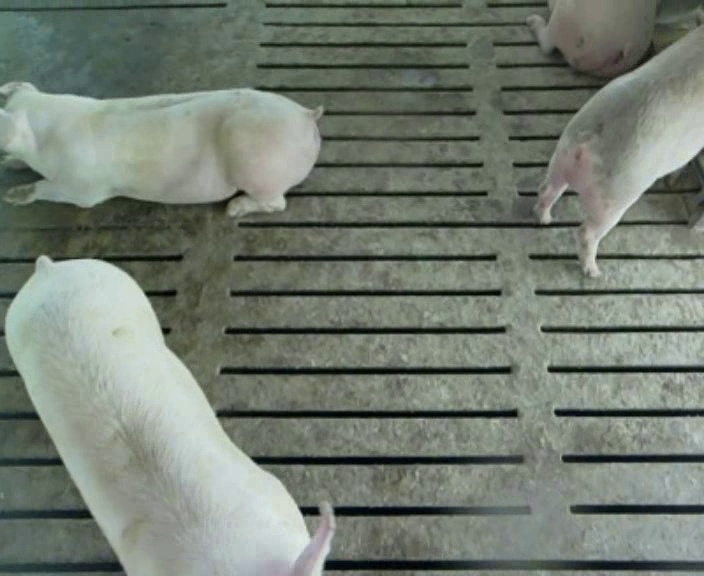pig: (7, 257, 334, 573), (534, 25, 703, 276), (527, 2, 655, 76)
